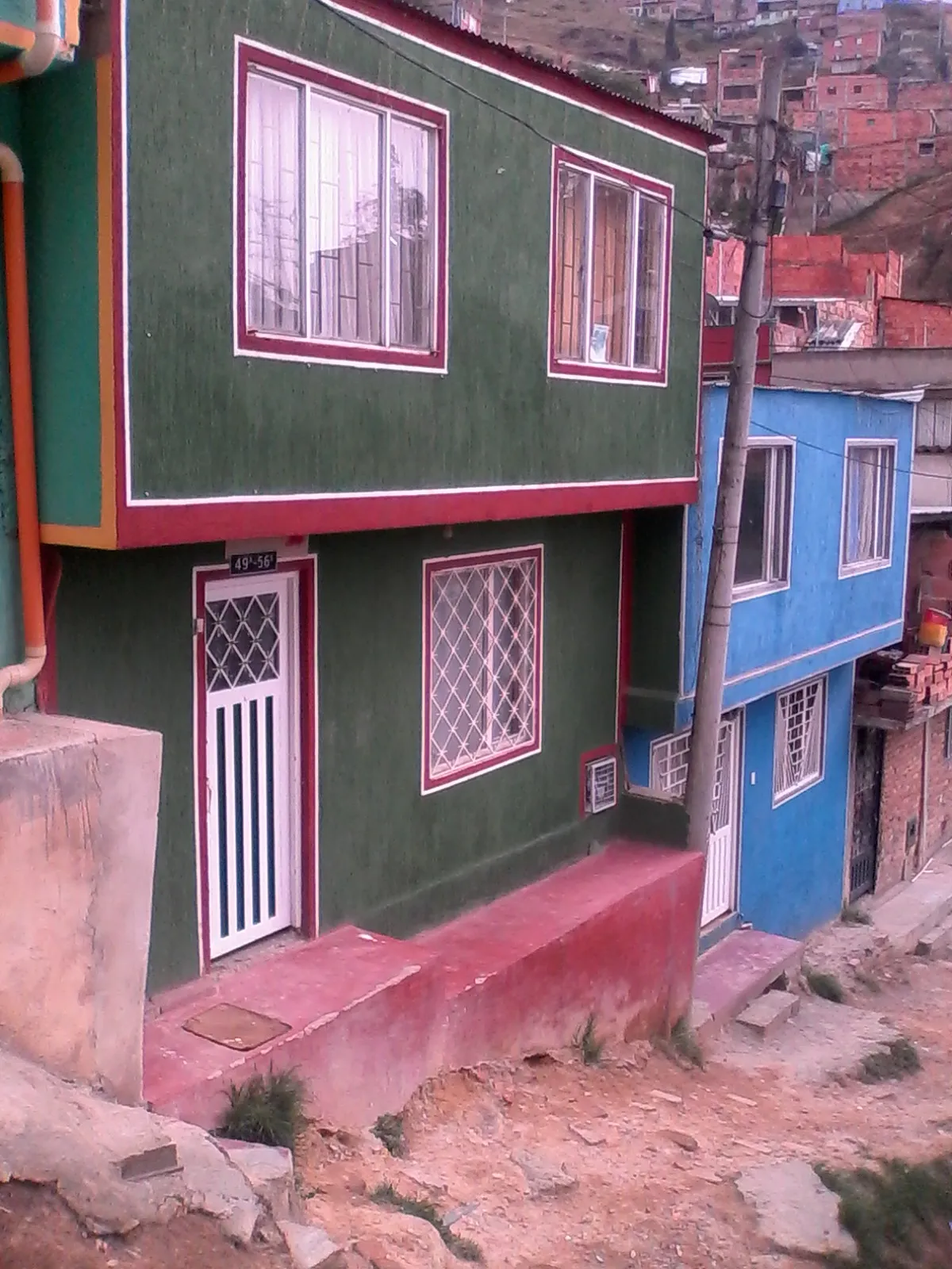House: (54, 8, 640, 895), (687, 356, 888, 925)
